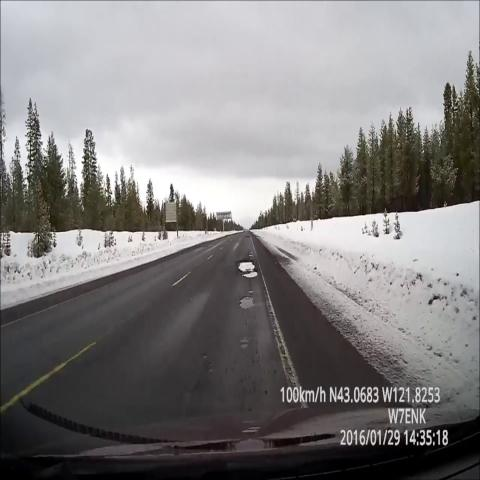pothole: (230, 250, 262, 286), (235, 284, 262, 313), (236, 334, 253, 358), (241, 227, 254, 243)
